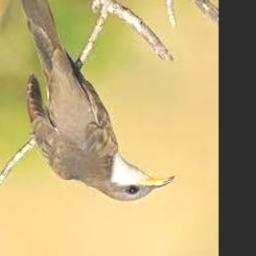Cuckoo: (15, 0, 175, 200)
